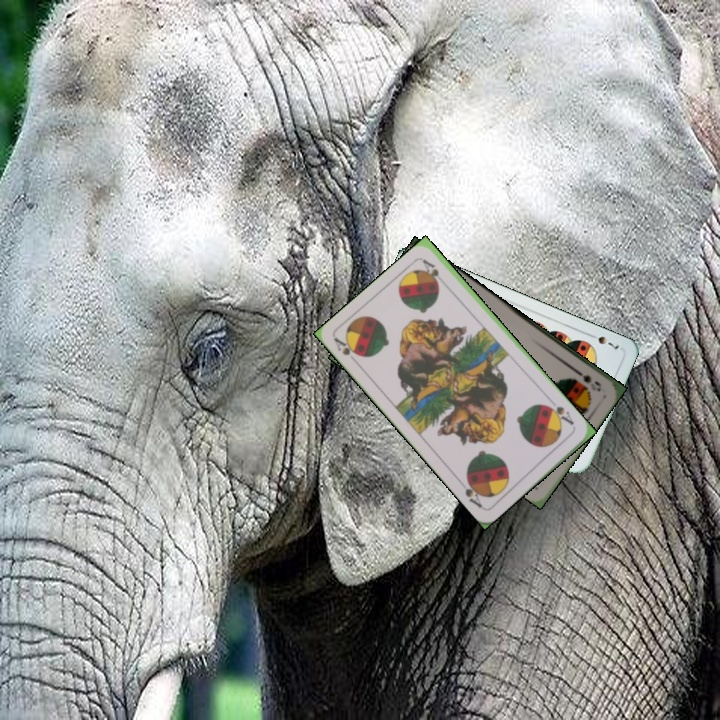S7: (584, 329, 622, 353)
SA: (330, 334, 363, 368), (542, 401, 577, 428)
SO: (570, 365, 604, 394)
